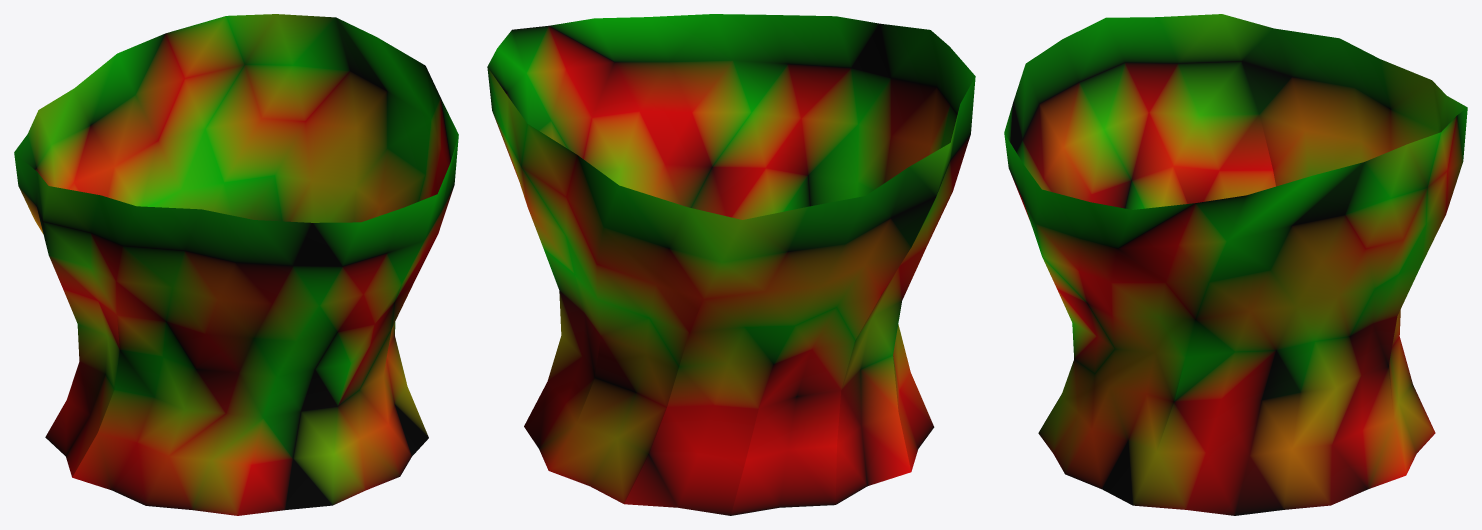
Rendered from sertz__uni_onslaught.glb.
3 renders of one model, left to right at view 1: azimuth 30°, elevation 25°; view 2: azimuth 150°, elevation 25°; view 3: azimuth 270°, elevation 25°, orthographic. The views are drawn at different scales.
Parts seen in each view (by area): view 1: uni_onslaught; view 2: uni_onslaught; view 3: uni_onslaught.
Part boxes in pixels (box(x1,y1,x2,y2)): uni_onslaught: box(14, 14, 458, 515); uni_onslaught: box(487, 14, 975, 515); uni_onslaught: box(1004, 14, 1467, 515).
Bounding box in the file's own units: 321 × 265 × 315.
